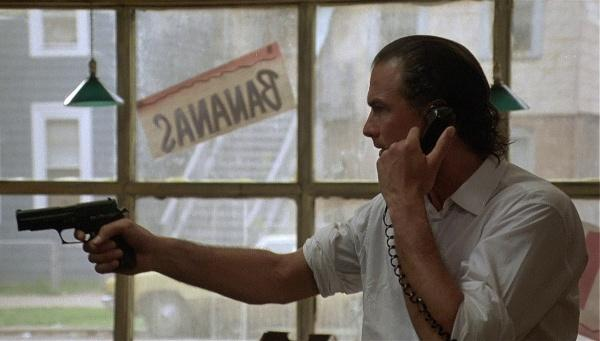Gun: (17, 198, 129, 244)
